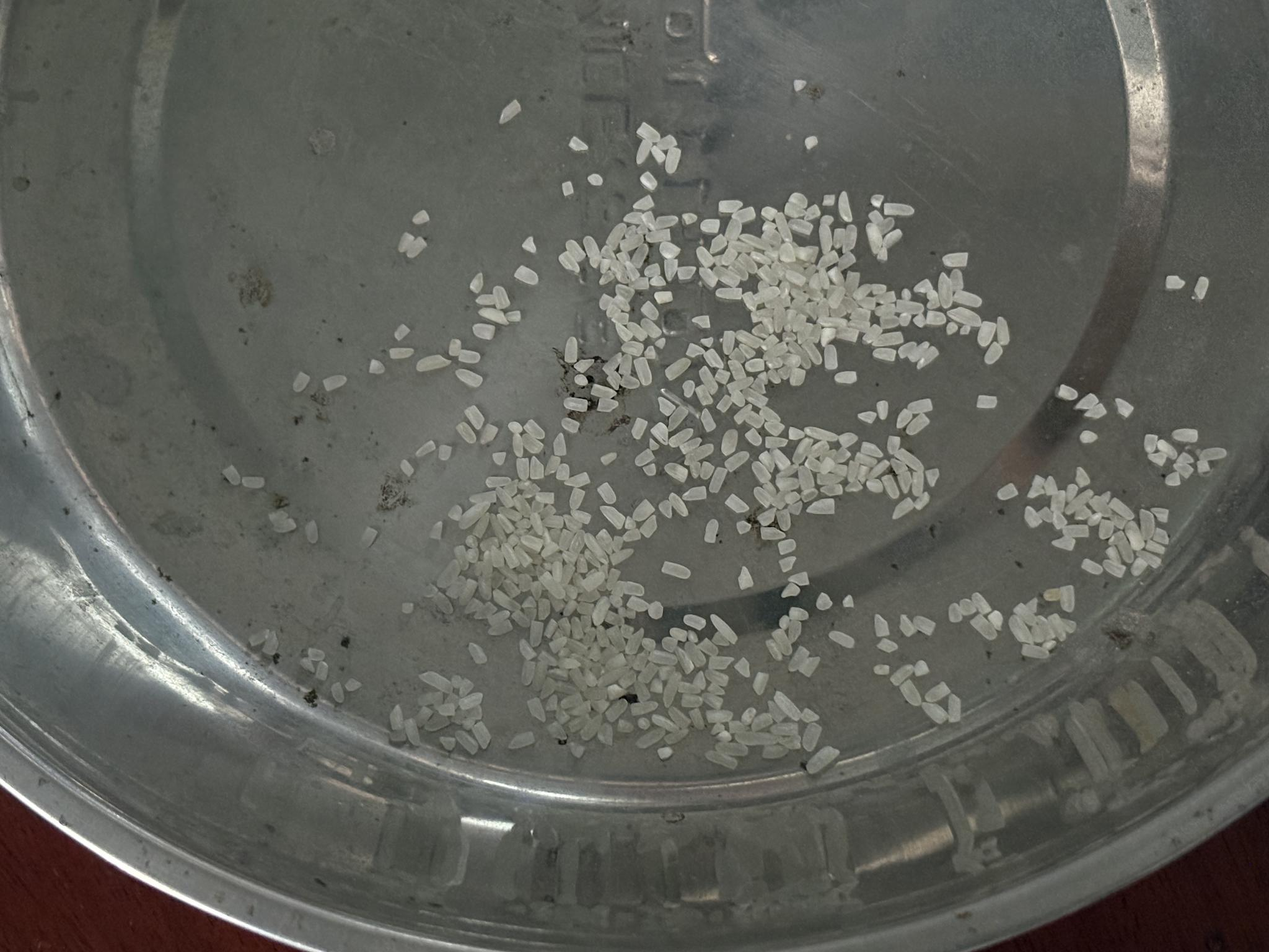Rice-th-y-nh: (1150, 654, 1200, 716), (805, 745, 840, 775), (458, 500, 492, 530), (709, 613, 739, 645), (774, 690, 803, 722), (420, 669, 455, 695), (1007, 614, 1035, 646), (895, 447, 926, 474), (1110, 531, 1135, 564), (969, 614, 998, 641), (948, 306, 982, 328), (704, 749, 738, 771), (1065, 490, 1094, 515), (492, 588, 521, 613), (437, 559, 461, 589), (683, 442, 714, 465), (635, 726, 666, 749), (664, 356, 692, 381), (683, 640, 708, 668), (579, 713, 603, 742), (604, 222, 627, 251), (712, 265, 741, 288), (734, 406, 764, 428), (773, 212, 794, 243), (604, 698, 630, 723), (454, 730, 480, 755), (599, 505, 626, 529), (864, 223, 884, 255), (791, 437, 813, 466), (402, 718, 424, 747), (605, 624, 627, 653), (944, 693, 965, 723), (698, 366, 719, 396), (925, 681, 952, 704), (740, 232, 771, 252), (651, 713, 680, 734), (633, 357, 654, 386), (673, 646, 694, 675), (1124, 521, 1145, 550), (1109, 497, 1134, 521), (479, 306, 509, 326), (916, 346, 940, 371), (771, 628, 793, 655), (735, 330, 764, 350), (667, 705, 691, 729), (906, 412, 930, 436), (890, 664, 915, 687), (664, 461, 689, 484), (445, 575, 468, 600), (668, 427, 694, 449), (724, 451, 750, 473), (801, 339, 823, 365), (976, 321, 998, 347), (457, 579, 478, 606), (624, 628, 645, 655), (708, 466, 728, 494), (564, 239, 587, 263), (891, 497, 915, 520), (631, 499, 655, 522), (667, 492, 689, 517), (636, 122, 661, 144), (742, 388, 768, 409), (464, 404, 485, 430), (526, 696, 547, 722), (796, 465, 817, 491), (472, 512, 492, 539), (663, 147, 683, 174), (648, 649, 678, 667), (828, 630, 856, 649), (455, 368, 483, 387), (640, 317, 663, 340), (558, 251, 581, 274), (1089, 496, 1113, 518), (725, 493, 750, 514), (983, 341, 1004, 366), (895, 298, 924, 316), (1021, 642, 1050, 660), (630, 243, 650, 269), (880, 474, 900, 500), (788, 216, 814, 236), (500, 543, 520, 569), (753, 284, 780, 303), (455, 421, 477, 444), (799, 655, 821, 678), (757, 264, 779, 287), (520, 433, 544, 454), (868, 210, 893, 230), (609, 547, 634, 567), (835, 324, 860, 344), (634, 138, 653, 164), (453, 544, 471, 571), (971, 592, 992, 615), (738, 252, 759, 275), (582, 570, 605, 591), (467, 642, 488, 665), (868, 459, 891, 480), (597, 482, 618, 505), (913, 615, 936, 636), (907, 342, 930, 363), (459, 692, 483, 712), (1102, 558, 1126, 578), (678, 436, 702, 456), (639, 515, 659, 539), (1137, 549, 1161, 569), (596, 722, 616, 746), (492, 285, 511, 310), (724, 217, 743, 242), (591, 383, 617, 401), (563, 395, 589, 413), (487, 619, 513, 637), (817, 315, 848, 330), (626, 321, 648, 342), (613, 321, 634, 343), (1157, 439, 1179, 460), (756, 506, 778, 527), (751, 461, 772, 483), (524, 419, 546, 440), (696, 637, 719, 657), (771, 448, 791, 471), (696, 245, 716, 268), (764, 639, 784, 662), (659, 240, 682, 260), (414, 705, 434, 728), (728, 375, 755, 392), (942, 251, 969, 268), (758, 405, 782, 424), (1027, 475, 1046, 499), (486, 609, 510, 628), (1074, 393, 1099, 411), (699, 408, 717, 433), (322, 374, 347, 392), (760, 525, 786, 542), (882, 229, 903, 250), (698, 267, 719, 288), (704, 349, 725, 370), (563, 513, 584, 534), (406, 237, 427, 258), (727, 359, 747, 381), (494, 487, 514, 509), (733, 403, 753, 425), (479, 423, 499, 445), (617, 669, 639, 689), (639, 662, 659, 684), (651, 421, 670, 444), (898, 614, 917, 637), (694, 384, 713, 407), (633, 679, 652, 702), (630, 416, 649, 439), (520, 533, 544, 551), (626, 595, 650, 613), (621, 339, 645, 357), (1062, 523, 1089, 539), (470, 489, 497, 505), (873, 614, 891, 638), (528, 456, 546, 480), (497, 505, 522, 522), (948, 268, 965, 293), (615, 283, 636, 303), (657, 396, 677, 417), (715, 286, 743, 301), (1114, 397, 1134, 418), (753, 487, 772, 509), (827, 266, 846, 288), (827, 286, 846, 308), (817, 250, 839, 269), (778, 241, 797, 263), (682, 485, 708, 501), (784, 269, 807, 287), (1084, 402, 1107, 420), (689, 708, 707, 731), (854, 451, 877, 469), (820, 482, 844, 499), (683, 613, 707, 630), (1052, 535, 1076, 552), (569, 487, 586, 511), (860, 441, 884, 458), (569, 616, 586, 640), (837, 251, 857, 271), (640, 300, 659, 321), (744, 411, 765, 430), (415, 440, 436, 459), (514, 546, 533, 567), (758, 451, 776, 473), (997, 483, 1019, 501), (633, 194, 655, 212), (544, 454, 562, 476), (1024, 506, 1042, 528), (777, 462, 799, 480), (605, 568, 622, 591), (775, 508, 792, 531), (617, 354, 634, 377), (558, 528, 575, 551), (764, 434, 788, 450), (873, 346, 897, 362), (834, 370, 858, 386), (496, 514, 515, 534), (635, 448, 655, 467), (863, 324, 882, 344), (639, 171, 658, 191), (519, 639, 537, 660), (479, 535, 500, 553), (852, 284, 873, 302), (485, 475, 512, 489), (397, 232, 415, 253), (838, 431, 859, 449), (718, 199, 743, 214), (1081, 558, 1103, 575), (543, 514, 565, 531), (596, 396, 618, 413), (896, 408, 913, 430), (536, 598, 552, 621), (388, 346, 414, 360), (778, 555, 797, 574), (561, 416, 580, 435), (744, 427, 762, 447), (510, 434, 525, 458), (511, 610, 531, 628), (1057, 384, 1078, 401), (734, 657, 751, 678), (330, 682, 347, 703), (1173, 462, 1194, 479), (1098, 518, 1114, 540), (878, 315, 901, 330), (898, 341, 917, 359), (760, 334, 779, 352), (738, 343, 757, 361), (819, 456, 837, 475), (676, 265, 696, 282), (1150, 506, 1170, 523), (777, 538, 797, 555), (571, 509, 592, 525), (788, 606, 809, 622), (780, 582, 801, 598), (764, 420, 785, 436), (241, 475, 265, 489), (700, 218, 721, 234), (877, 637, 898, 653), (624, 261, 640, 282), (623, 210, 644, 226), (629, 276, 650, 292), (699, 460, 715, 481), (1147, 451, 1168, 467), (876, 290, 897, 306), (543, 618, 559, 639), (469, 273, 485, 294), (788, 571, 810, 586), (976, 394, 998, 409), (805, 456, 823, 474), (890, 457, 908, 475), (661, 635, 679, 653), (1051, 511, 1068, 530), (865, 478, 885, 494), (692, 314, 712, 330), (685, 342, 705, 358), (741, 292, 757, 312), (1043, 476, 1059, 496), (642, 210, 658, 230), (606, 370, 622, 390), (574, 358, 595, 373), (620, 375, 641, 390), (745, 357, 766, 372), (1145, 540, 1166, 555), (609, 311, 630, 326), (914, 278, 935, 293), (716, 394, 733, 412), (714, 367, 731, 385), (729, 389, 746, 407), (644, 262, 662, 279), (622, 528, 642, 543), (569, 136, 589, 151), (857, 296, 877, 311), (535, 490, 555, 505), (654, 290, 674, 305), (314, 661, 329, 681), (575, 553, 589, 574), (876, 399, 890, 420), (1065, 483, 1079, 504), (788, 500, 805, 517), (670, 627, 688, 643), (650, 145, 666, 163), (1153, 527, 1169, 545), (788, 425, 806, 441), (598, 270, 616, 286), (344, 677, 362, 693), (562, 600, 578, 618), (555, 463, 570, 482), (857, 411, 877, 425), (649, 677, 665, 694), (437, 444, 453, 461), (539, 504, 557, 519), (681, 380, 696, 398), (400, 459, 415, 477), (641, 637, 657, 653), (767, 369, 782, 386), (649, 274, 667, 288), (491, 451, 507, 466), (1086, 512, 1102, 527), (898, 311, 912, 327), (561, 181, 574, 197), (699, 336, 714, 349)
